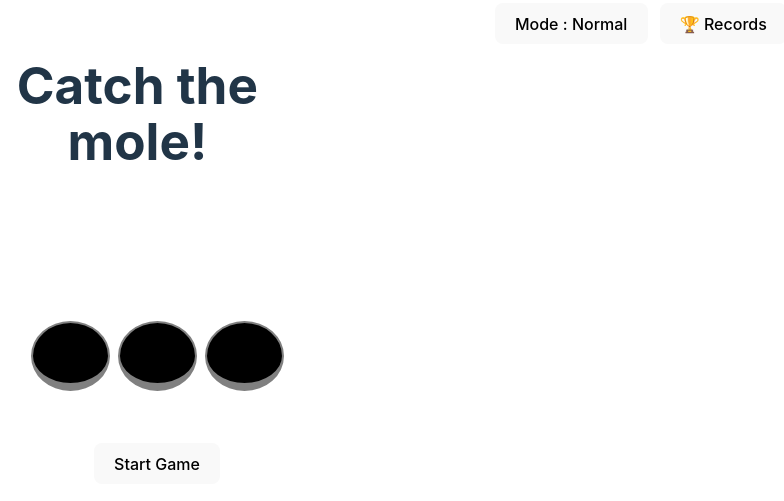
it: App Component › starts the game when Start Game button is clicked
The width and height of the screenshot is (784, 501).
Click the button "Start Game": (157, 464) x1=94 y1=443 x2=220 y2=484
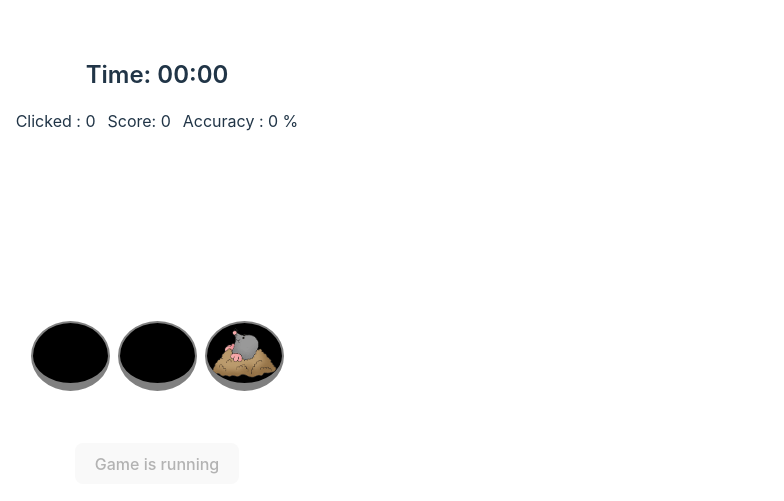
expect the button "Game is running" is shown: met, box x1=75 y1=443 x2=239 y2=484
expect the text "Score: 0" is shown: met, box x1=108 y1=109 x2=171 y2=133
